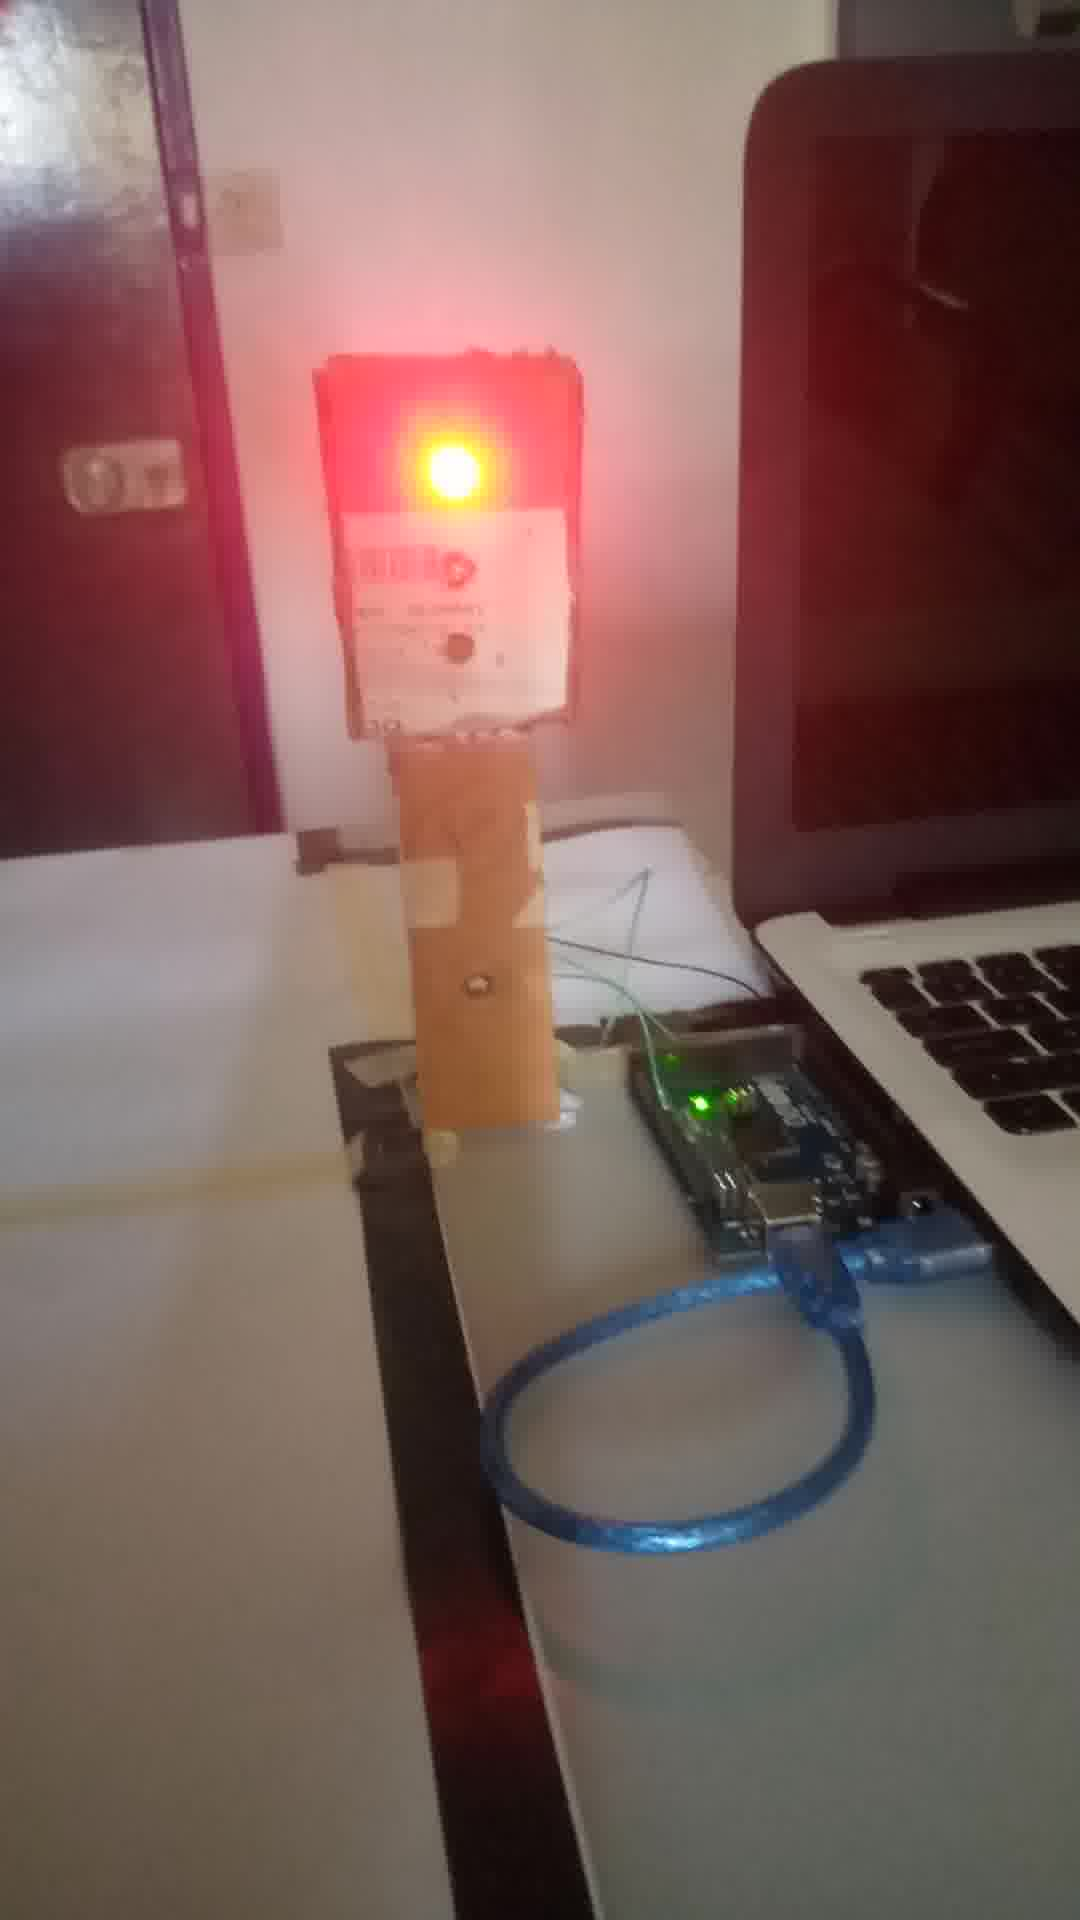red: (320, 363, 574, 737)
